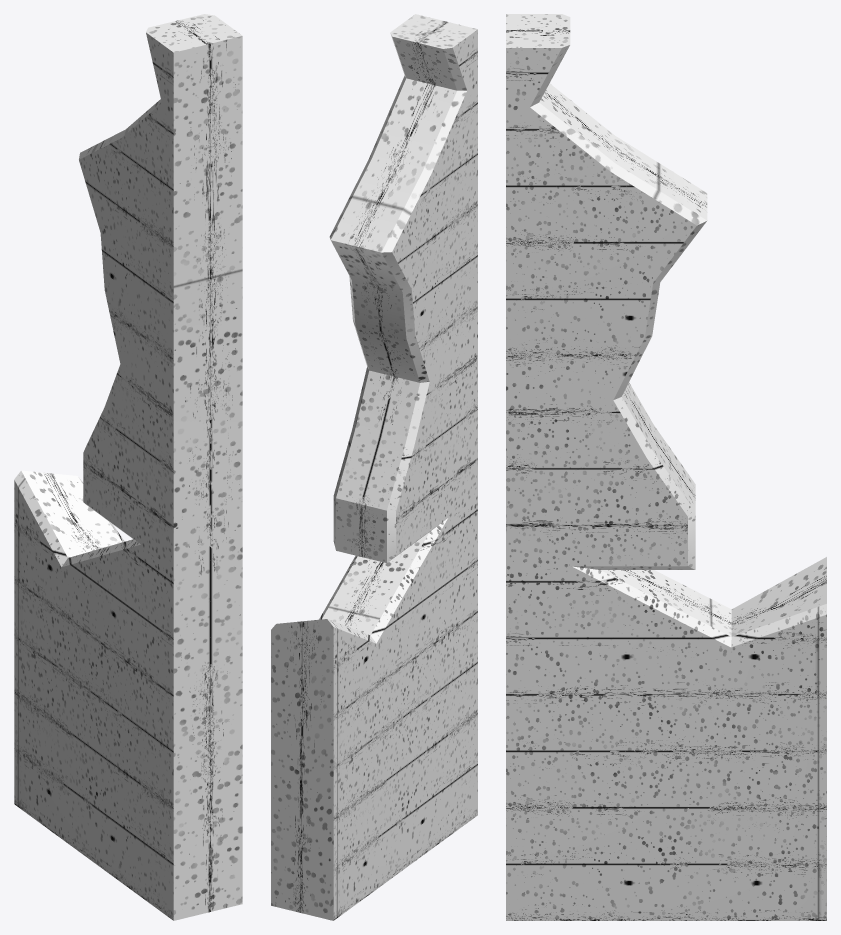
The model's file is Wall_Spacer_Cardinal_Backing_02_transition 1.fbx.
The picture shows the model from 3 angles, left to right: view 1: azimuth 30°, elevation 25°; view 2: azimuth 150°, elevation 25°; view 3: azimuth 270°, elevation 25°; orthographic projection. The views are drawn at different scales.
Visible parts, largest first — view 1: wall_spacer_backing_transition_02; view 2: wall_spacer_backing_transition_02; view 3: wall_spacer_backing_transition_02.
Part boxes in pixels (bbox=[...]): wall_spacer_backing_transition_02: bbox=[14, 14, 242, 920]; wall_spacer_backing_transition_02: bbox=[271, 14, 477, 920]; wall_spacer_backing_transition_02: bbox=[506, 14, 826, 920].
Bounding box in the file's own units: 0.25 × 3 × 1.
